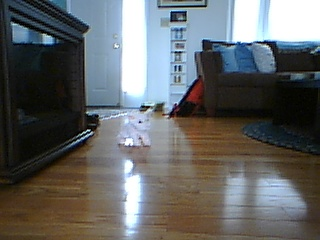piggy: (116, 108, 154, 149)
